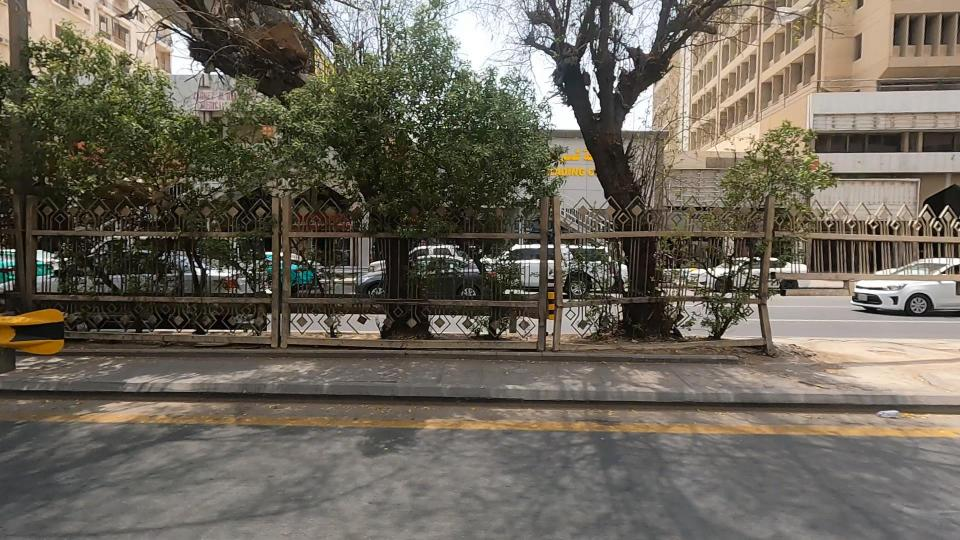GARBAGE: (838, 379, 941, 445)
